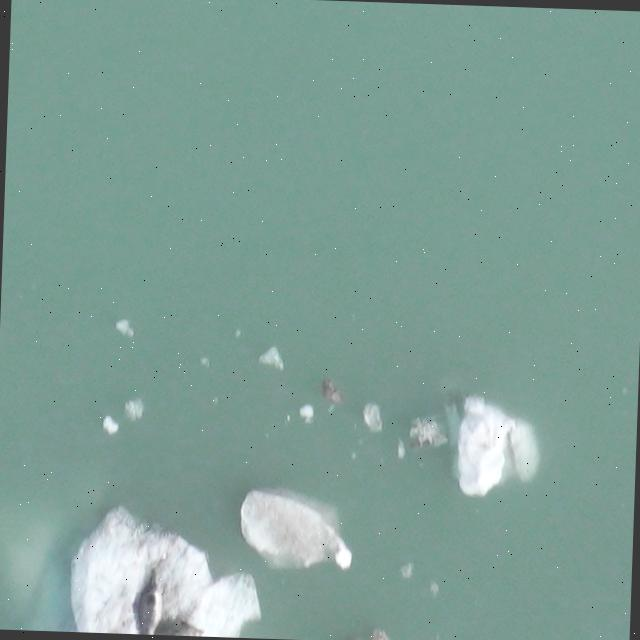seal: (130, 558, 169, 634), (125, 612, 209, 635)
